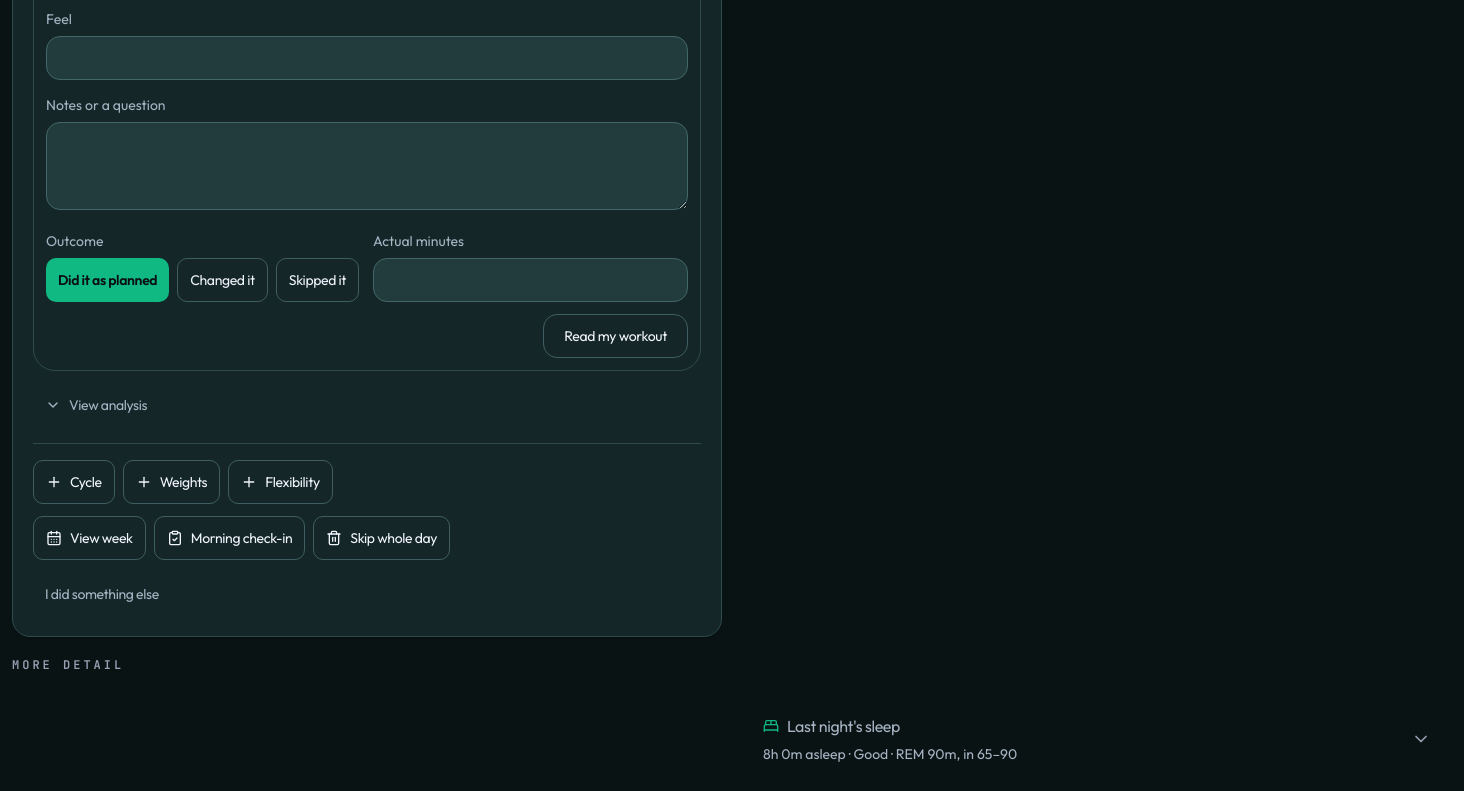
Scenario: DashboardPage › renders only the latest read when a corrected ride has two analyses (Batch 140)
This screenshot has width=1464, height=791.
(page scrolled)
Click the button "View analysis".
click(96, 405)  # box [33, 383, 159, 427]
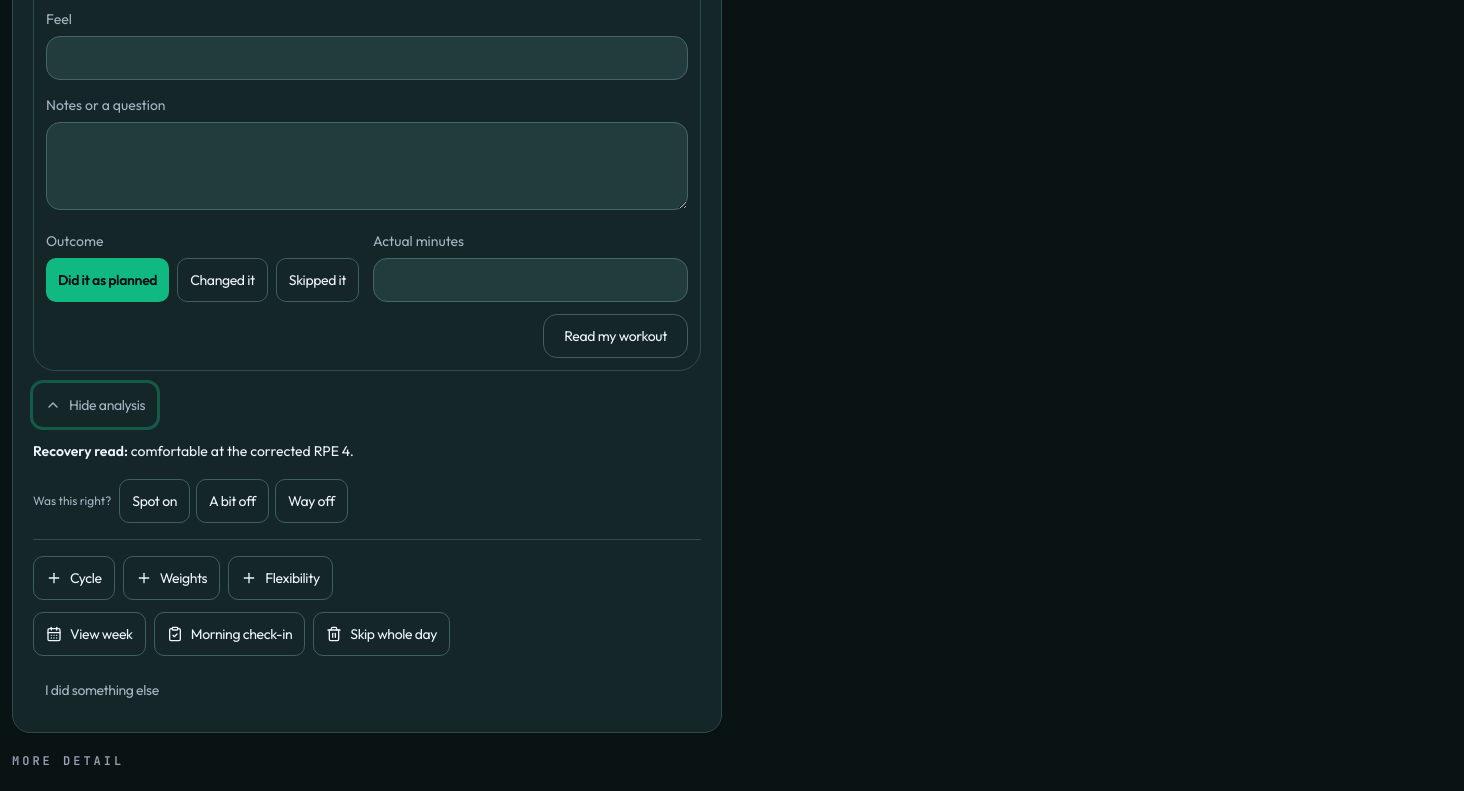
Check: the text "Recovery read: comfortable at the corrected RPE 4." is shown, box [33, 442, 354, 460]
